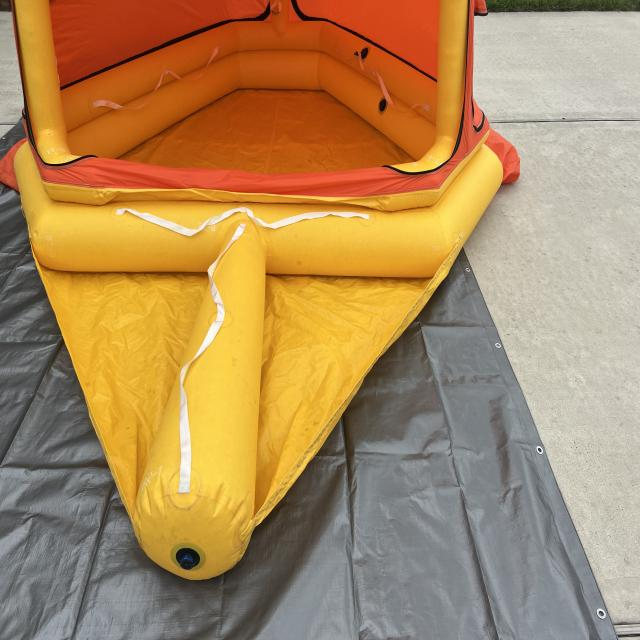Multi-person_life_raft: (0, 1, 520, 581)
